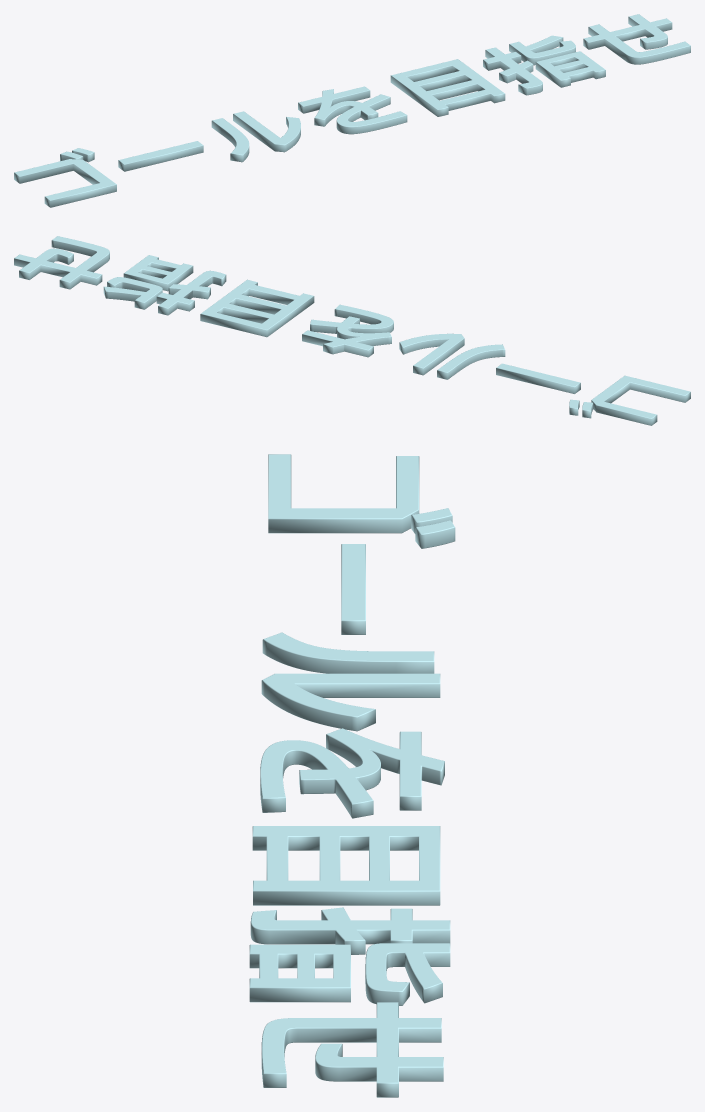
File: objective_reach_goal.obj
3 views of the same model, one above another, from view 1: azimuth 30°, elevation 25°; view 2: azimuth 150°, elevation 25°; view 3: azimuth 270°, elevation 25° (orthographic). The views are drawn at different scales.
Visible parts, largest first — view 1: ObjectiveReachGoal; view 2: ObjectiveReachGoal; view 3: ObjectiveReachGoal.
Part boxes in pixels (box(x1,y1,x2,y2)): ObjectiveReachGoal: box(14, 14, 690, 207); ObjectiveReachGoal: box(14, 236, 690, 425); ObjectiveReachGoal: box(249, 454, 455, 1097).
Bounding box in the file's own units: 4.92 × 0.054 × 0.68.
1 material, 1 textured.
